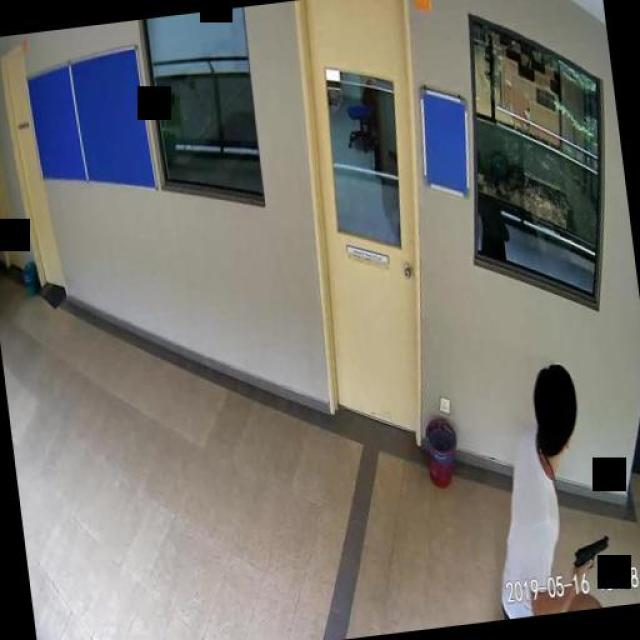gun: (570, 535, 610, 570)
